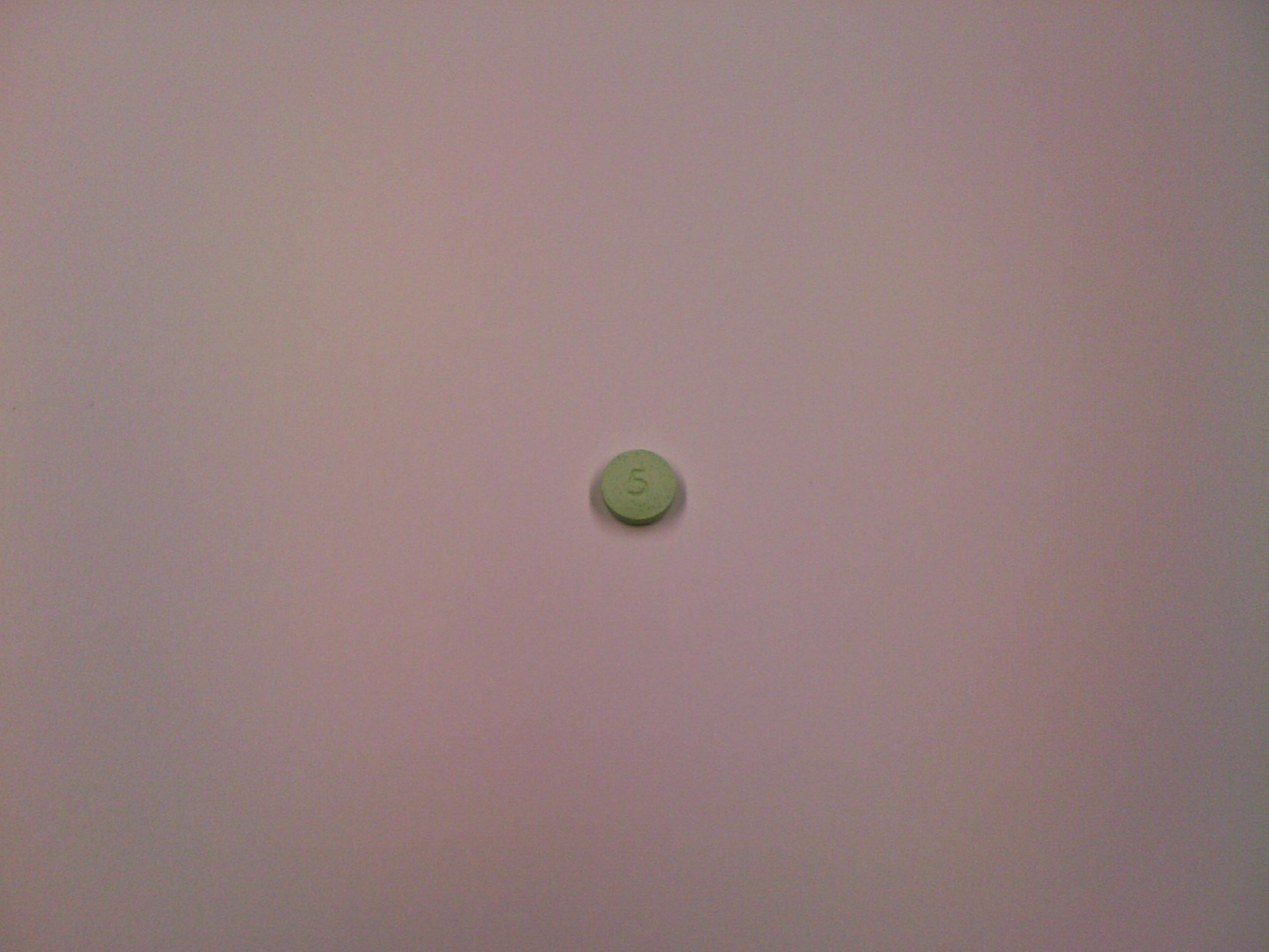Pill: (589, 442, 689, 532)
